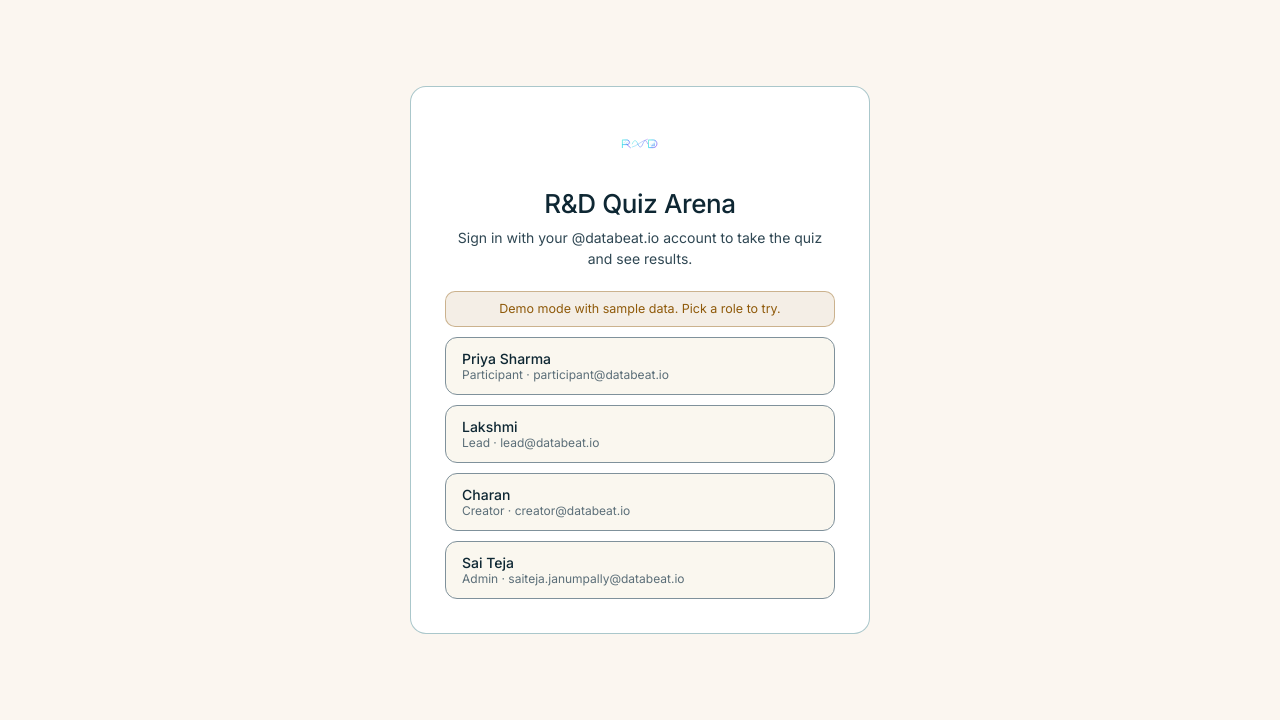
Scenario: required questions and the finish flow › shows a flat quiz as one list with no section headings
Click the button "Priya Sharma Participant · participant@databeat.io". click: (640, 366)
box: x1=445 y1=337 x2=835 y2=395
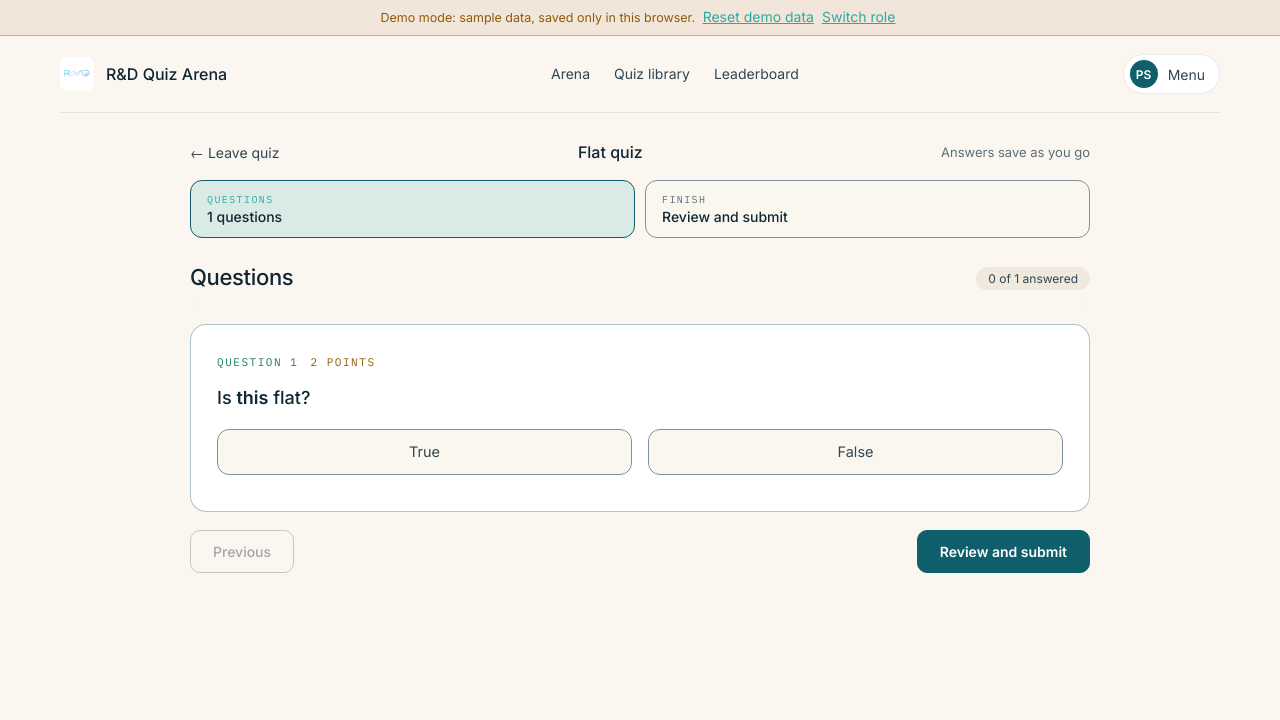
Expected: the text "1 questions" is shown, x1=207 y1=208 x2=282 y2=225
